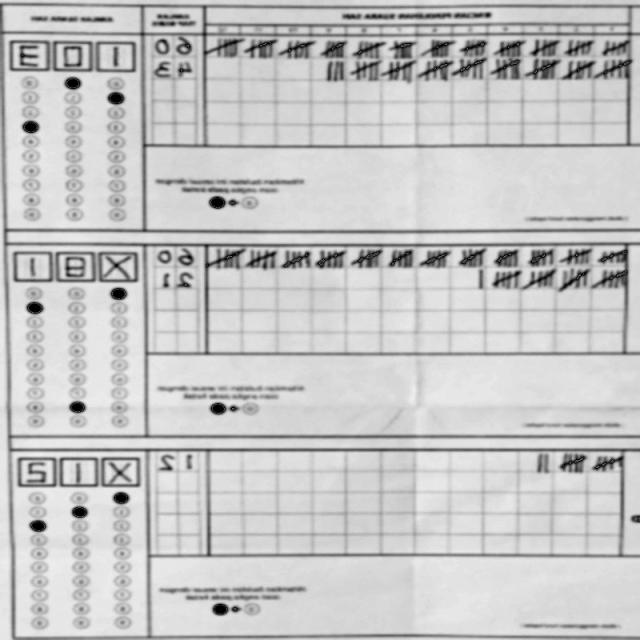Suara: (6, 34, 140, 76), (8, 246, 142, 287), (12, 449, 146, 490)
